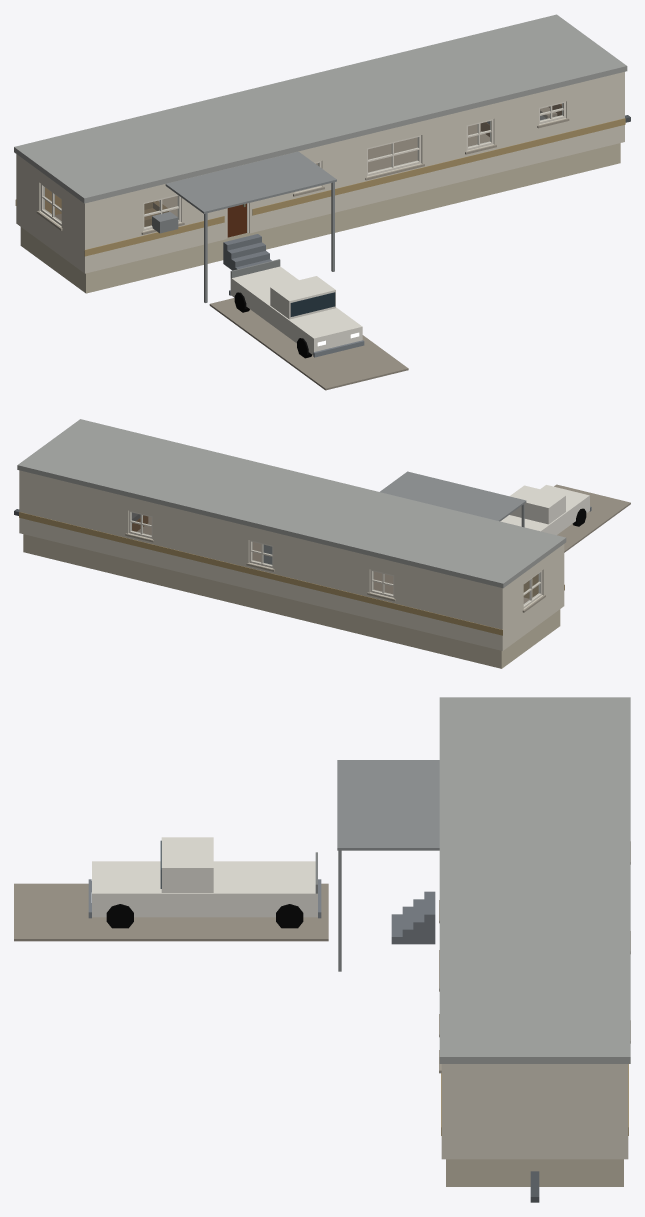
File: trailer.glb
3 views of the same model, one above another, from view 1: azimuth 30°, elevation 25°; view 2: azimuth 150°, elevation 25°; view 3: azimuth 270°, elevation 25° (orthographic). The views are drawn at different scales.
Parts seen in each view (by area): view 1: LOD0, FURN, LEAF0; view 2: LOD0, FURN; view 3: LOD0.
Boxes of the visible parts, left/top/right/bottom form: LOD0: left=14, top=14, right=630, bottom=390; FURN: left=144, top=104, right=561, bottom=226; LEAF0: left=227, top=203, right=246, bottom=237; LOD0: left=14, top=419, right=630, bottom=668; FURN: left=132, top=512, right=272, bottom=564; LOD0: left=14, top=697, right=630, bottom=1202.
Size of what is drawn, in the model's own units: 20.96 by 3.38 by 14.21.
